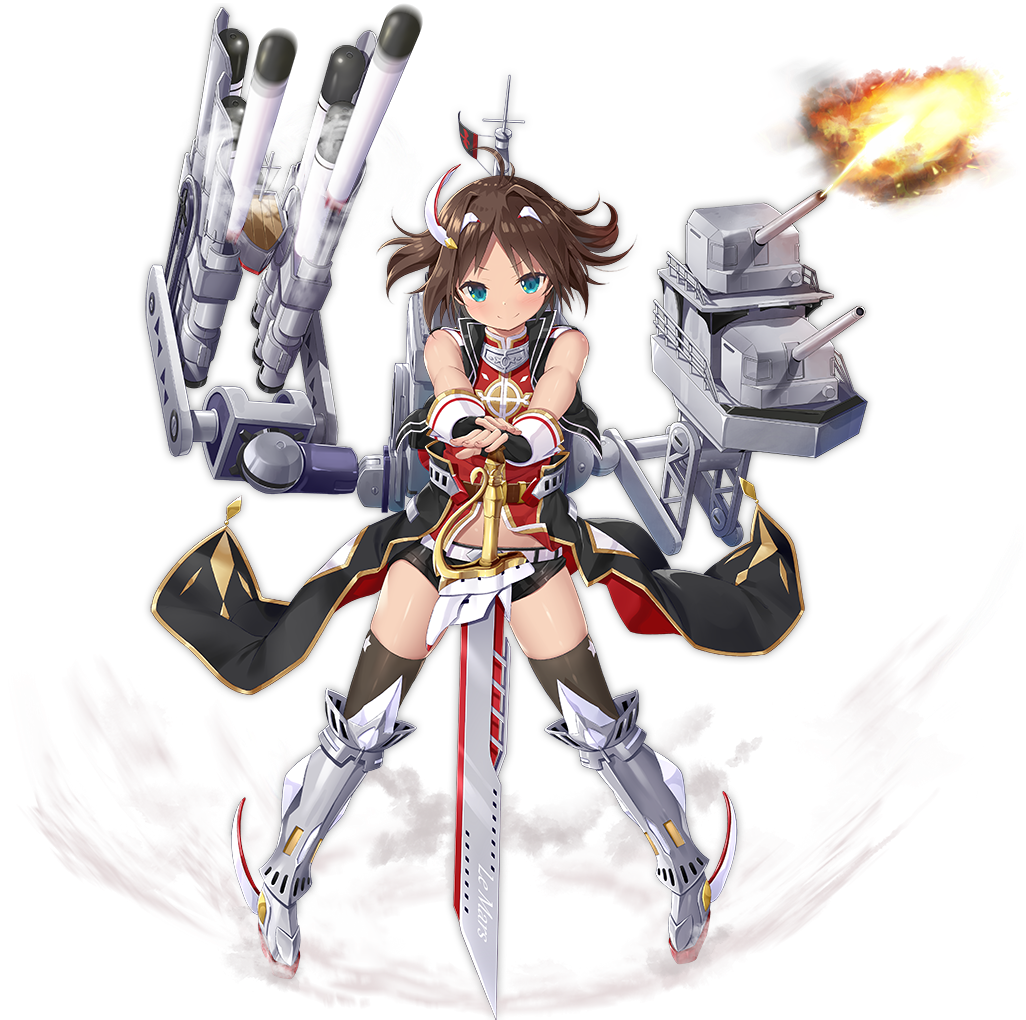person: (286, 171, 698, 910)
